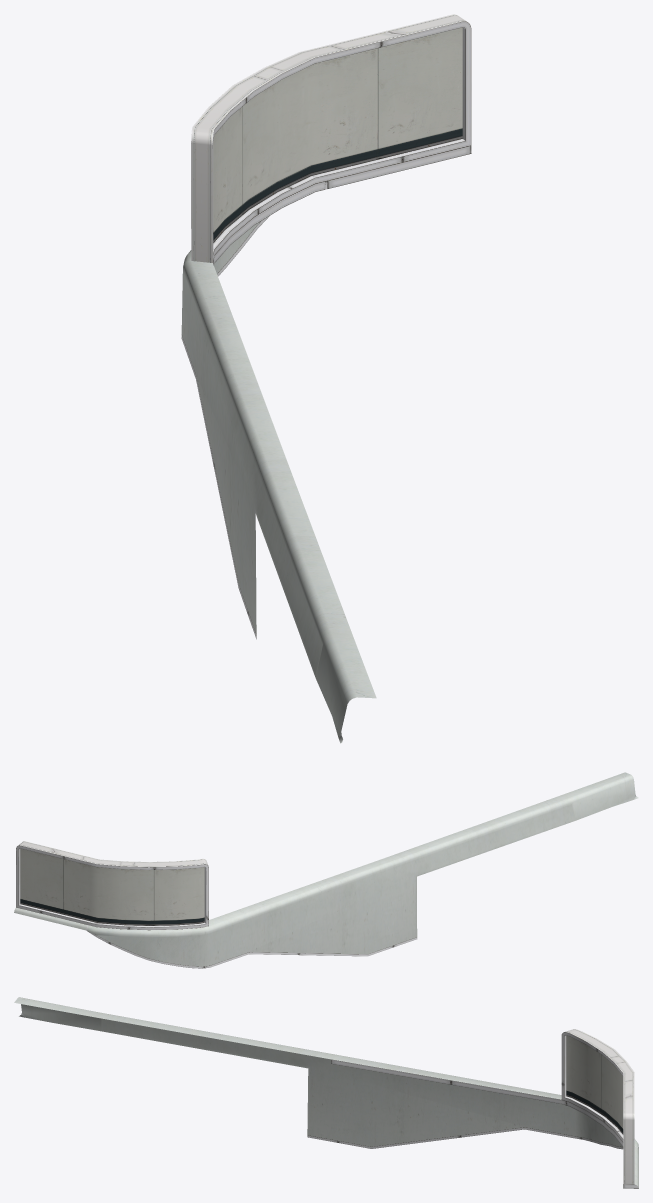
File: STA20_WALKwaycurvechunk.FBX
The picture shows the model from 3 angles, top to bottom: view 1: azimuth 30°, elevation 25°; view 2: azimuth 150°, elevation 25°; view 3: azimuth 270°, elevation 25°; orthographic projection. The views are drawn at different scales.
Visible parts, largest first — view 1: STA20_WALKwaycurvechunk; view 2: STA20_WALKwaycurvechunk; view 3: STA20_WALKwaycurvechunk.
Part boxes in pixels (left/top/right/bottom): STA20_WALKwaycurvechunk: left=181, top=14, right=471, bottom=743; STA20_WALKwaycurvechunk: left=14, top=772, right=638, bottom=968; STA20_WALKwaycurvechunk: left=14, top=997, right=638, bottom=1188.
Bounding box in the file's own units: 20.87 × 8.41 × 30.21.
